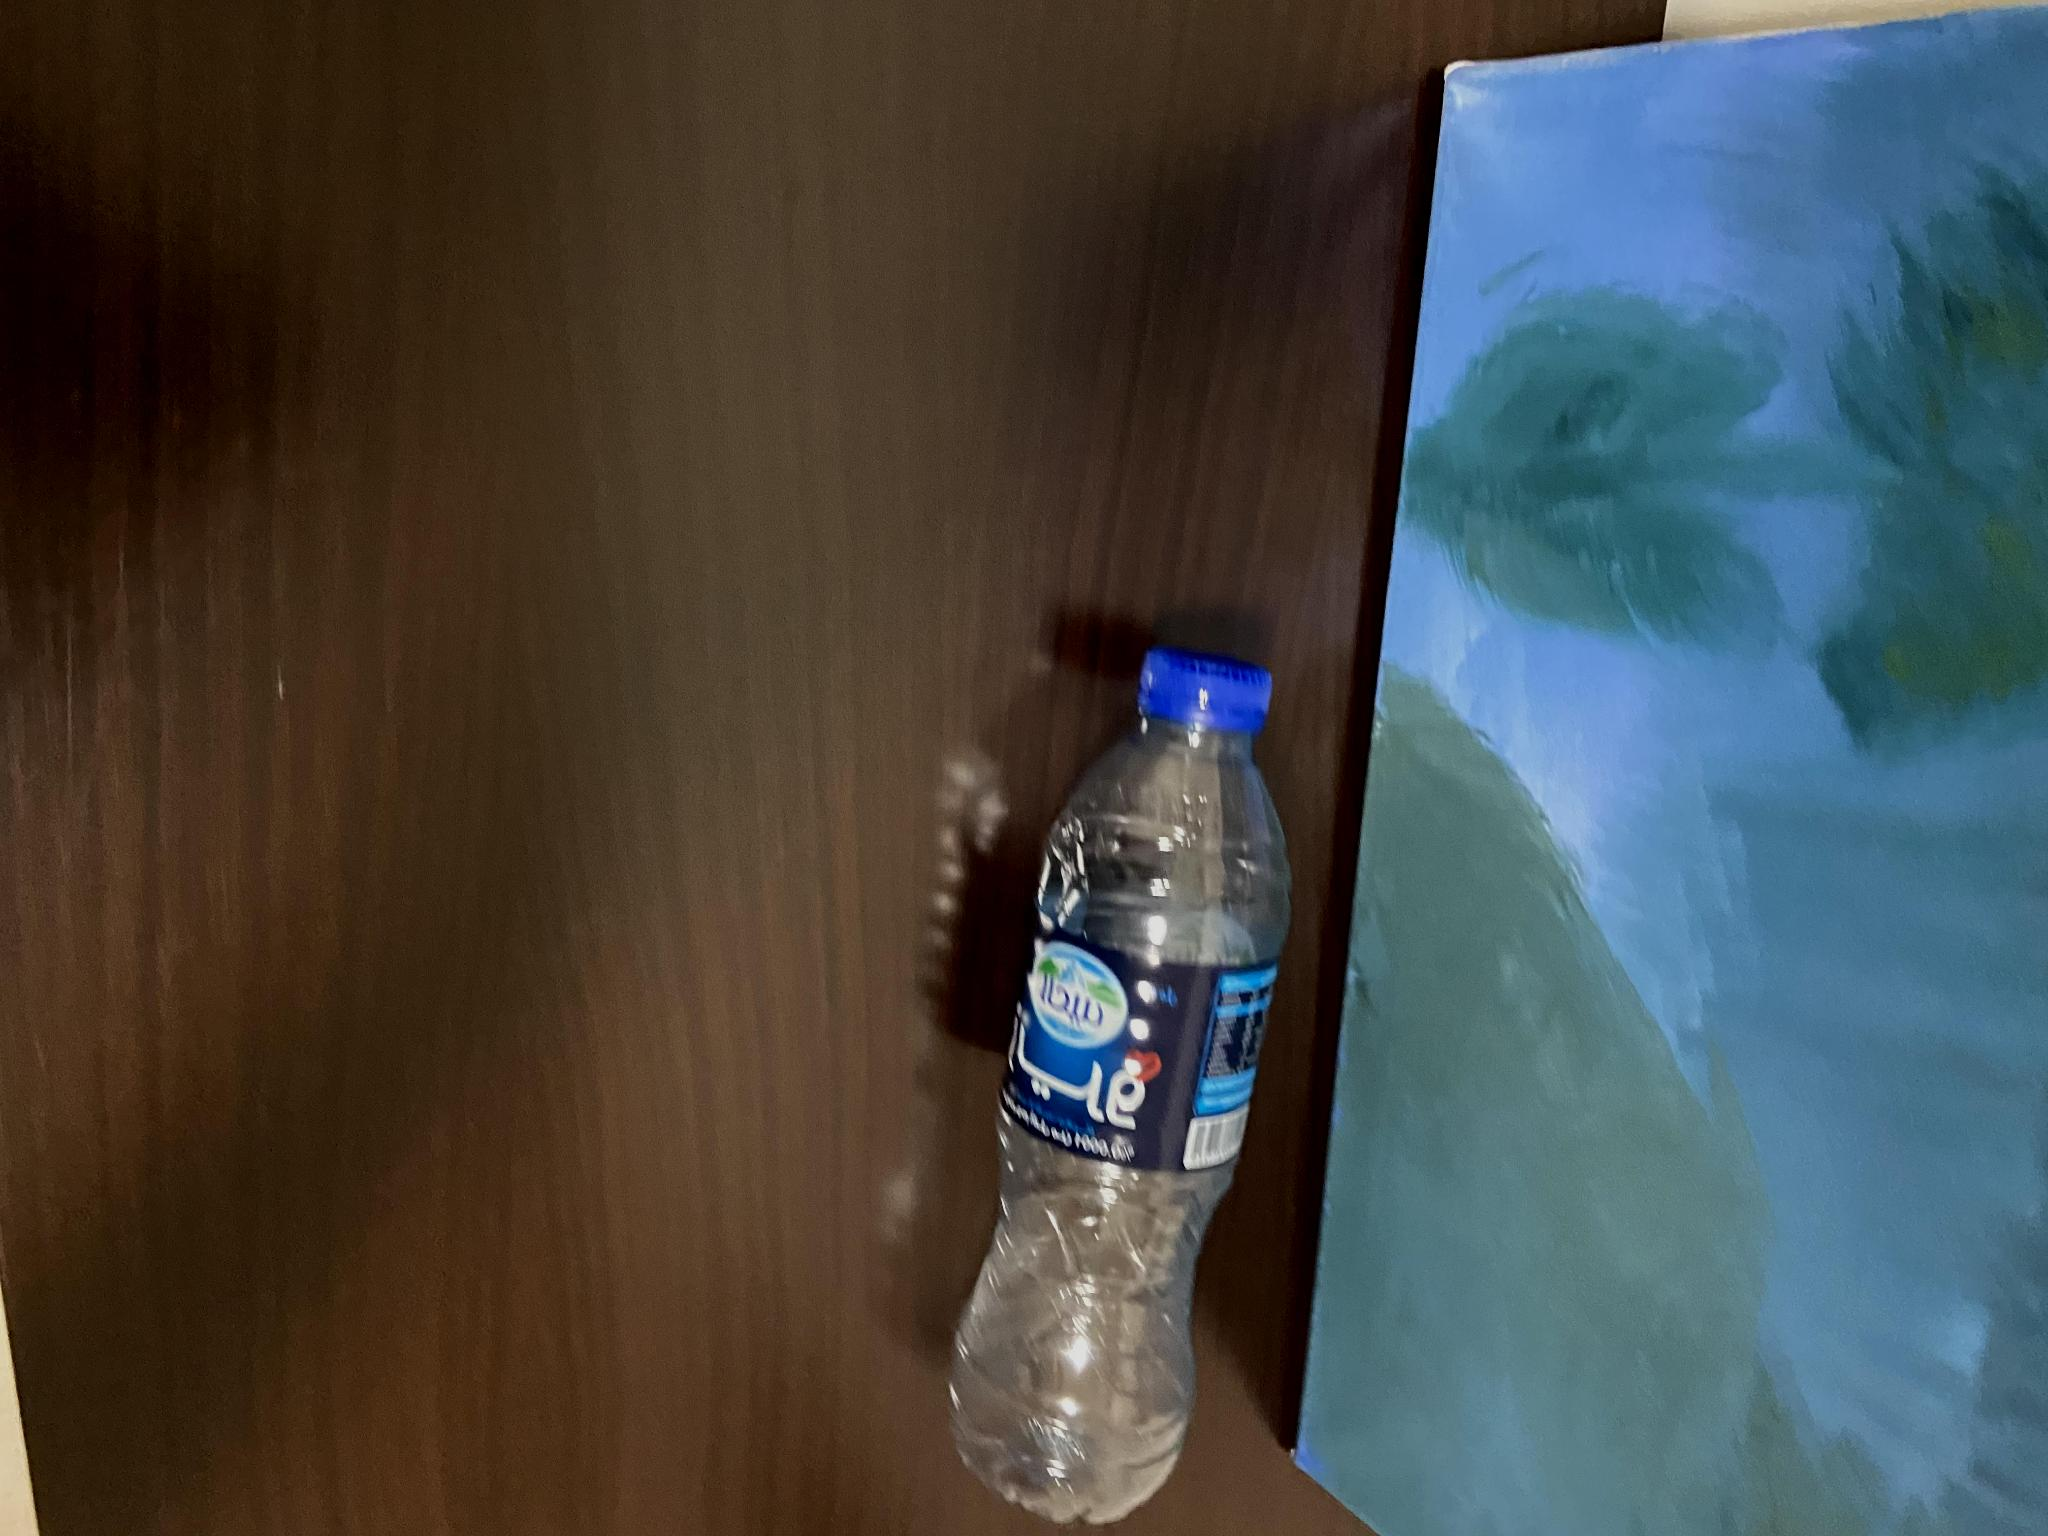bottle: (892, 638, 1356, 1536)
